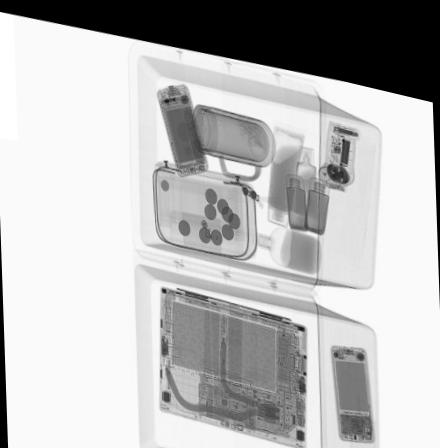Powerbank: (153, 70, 209, 174)
